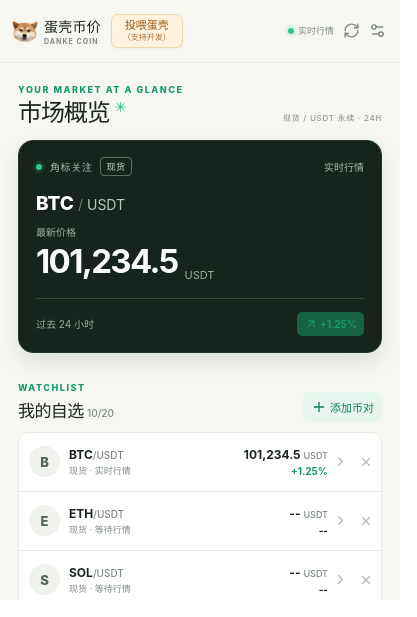
Test: popup › keeps a newer quote while applying a confirmed settings response
Expected: the text "101,234.5" is shown, [36,242,178,282]
Click the button named "设置": coordinates (376, 31) [363,18,388,44]
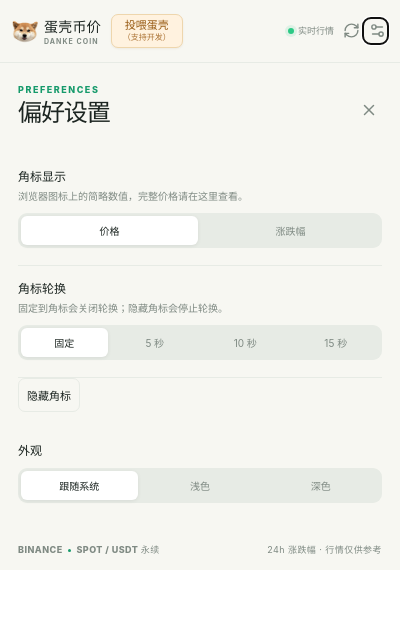
Click the button "涨跌幅": coordinates (290, 231) [202,216,379,245]
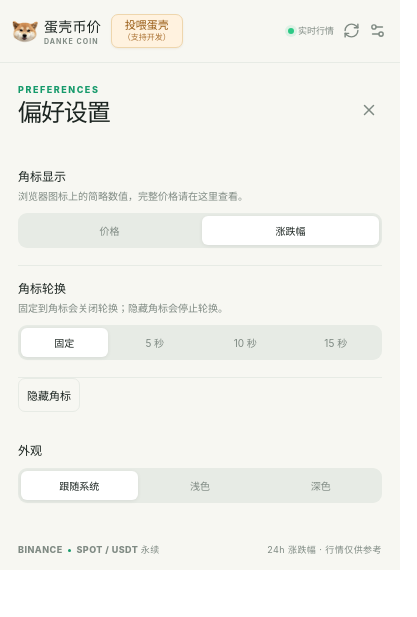
Result: the button "涨跌幅" is pressed at [202,216,379,245]
Click the button named "关闭设置": coordinates (368, 110) [354,96,382,124]
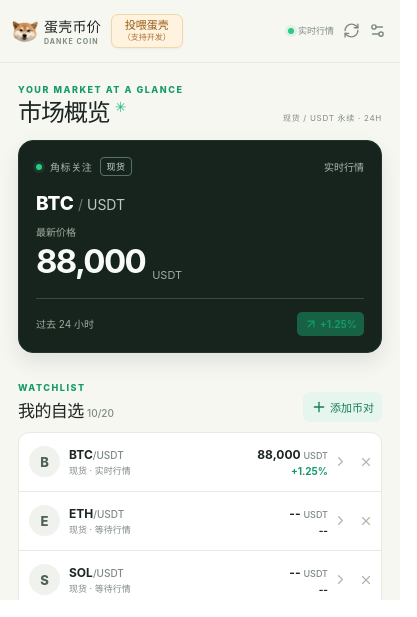
Result: the text "88,000" is shown at [36,242,145,282]
